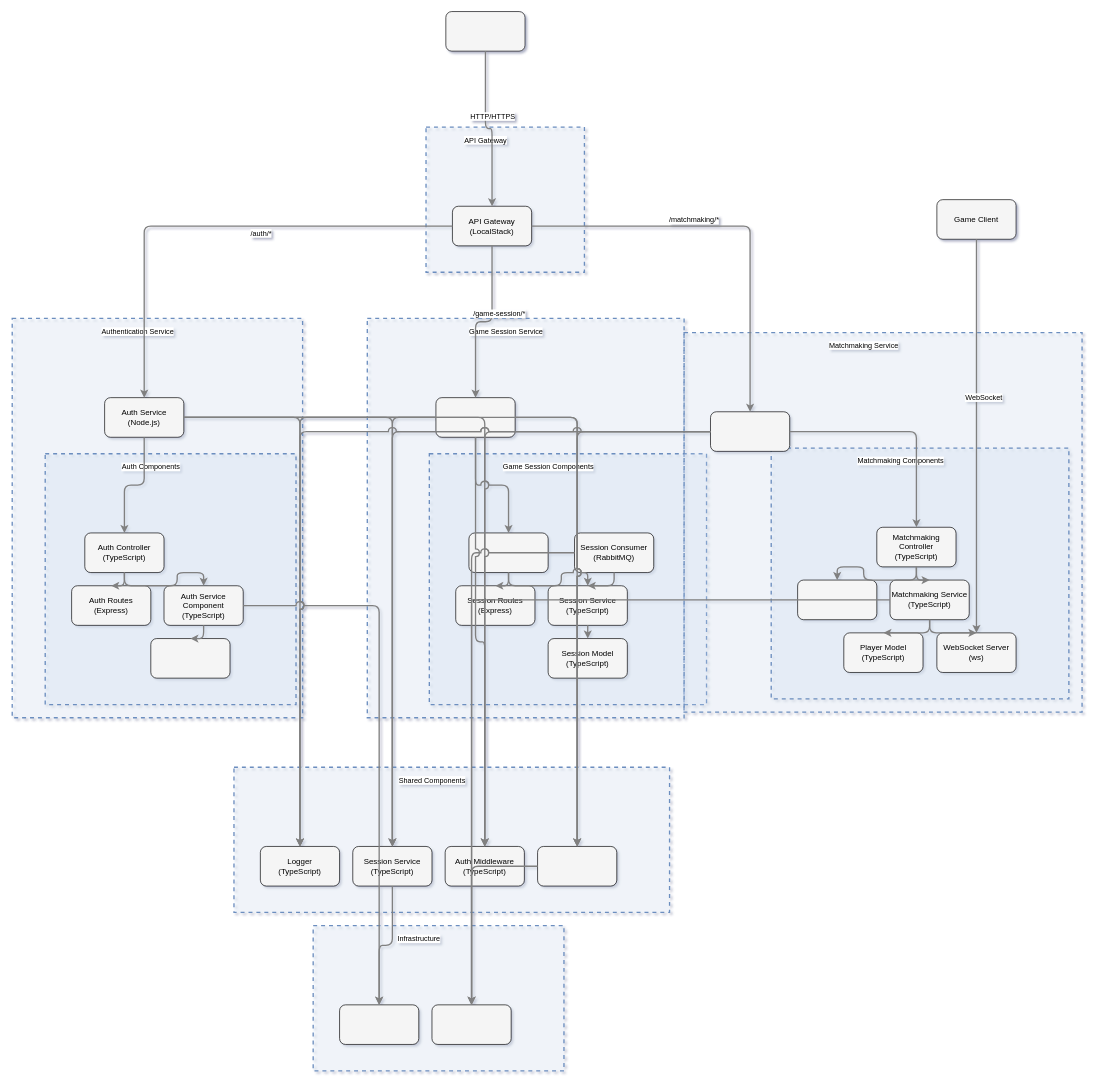
The diagram is 1098 pixels wide and 1087 high, and some of its shapes have lost their labels. Here are the shapes that lost their labels. From the top down, the box of each, then its label:
(445, 11, 525, 51): External User
(435, 397, 515, 437): Game Session Service (Node.js)
(710, 411, 790, 451): Matchmaking Service (Node.js)
(468, 532, 548, 573): Session Controller (TypeScript)
(797, 579, 877, 620): Matchmaking Routes (Express)
(150, 638, 230, 678): User Model (TypeScript)
(537, 846, 617, 886): Messaging Utility (RabbitMQ)
(339, 1004, 419, 1044): Redis Cache (Redis)
(431, 1004, 511, 1044): Message Broker (RabbitMQ)
